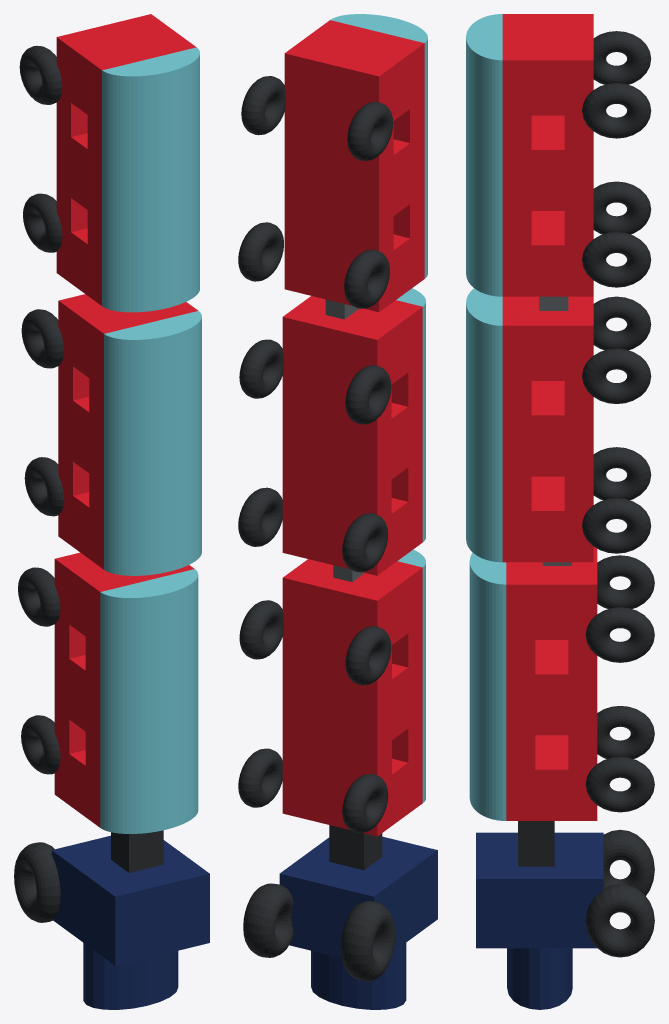
The model's file is tinker.obj.
The picture shows the model from 3 angles, left to right: view 1: azimuth 30°, elevation 25°; view 2: azimuth 150°, elevation 25°; view 3: azimuth 270°, elevation 25°; orthographic projection.
Parts seen in each view (by area): view 1: group_0_7720667, group_0_15277357, group_0_1650274, group_0_2829873; view 2: group_0_15277357, group_0_2829873, group_0_1650274, group_0_7720667, group_0_6383466; view 3: group_0_15277357, group_0_2829873, group_0_7720667, group_0_1650274, group_0_6383466.
Part boxes in pixels (<box>): group_0_7720667: <box>100,47,201,833</box>; group_0_15277357: <box>54,14,198,827</box>; group_0_1650274: <box>51,835,209,1009</box>; group_0_2829873: <box>14,45,163,922</box>; group_0_15277357: <box>282,20,424,836</box>; group_0_2829873: <box>238,76,395,981</box>; group_0_1650274: <box>279,836,437,1009</box>; group_0_7720667: <box>330,14,427,802</box>; group_0_6383466: <box>325,299,364,581</box>; group_0_15277357: <box>502,14,597,820</box>; group_0_2829873: <box>518,31,654,957</box>; group_0_7720667: <box>466,14,506,820</box>; group_0_1650274: <box>476,832,603,1009</box>; group_0_6383466: <box>539,296,571,565</box>.
Bounding box in the file's own units: 42.4 × 288 × 51.74.
